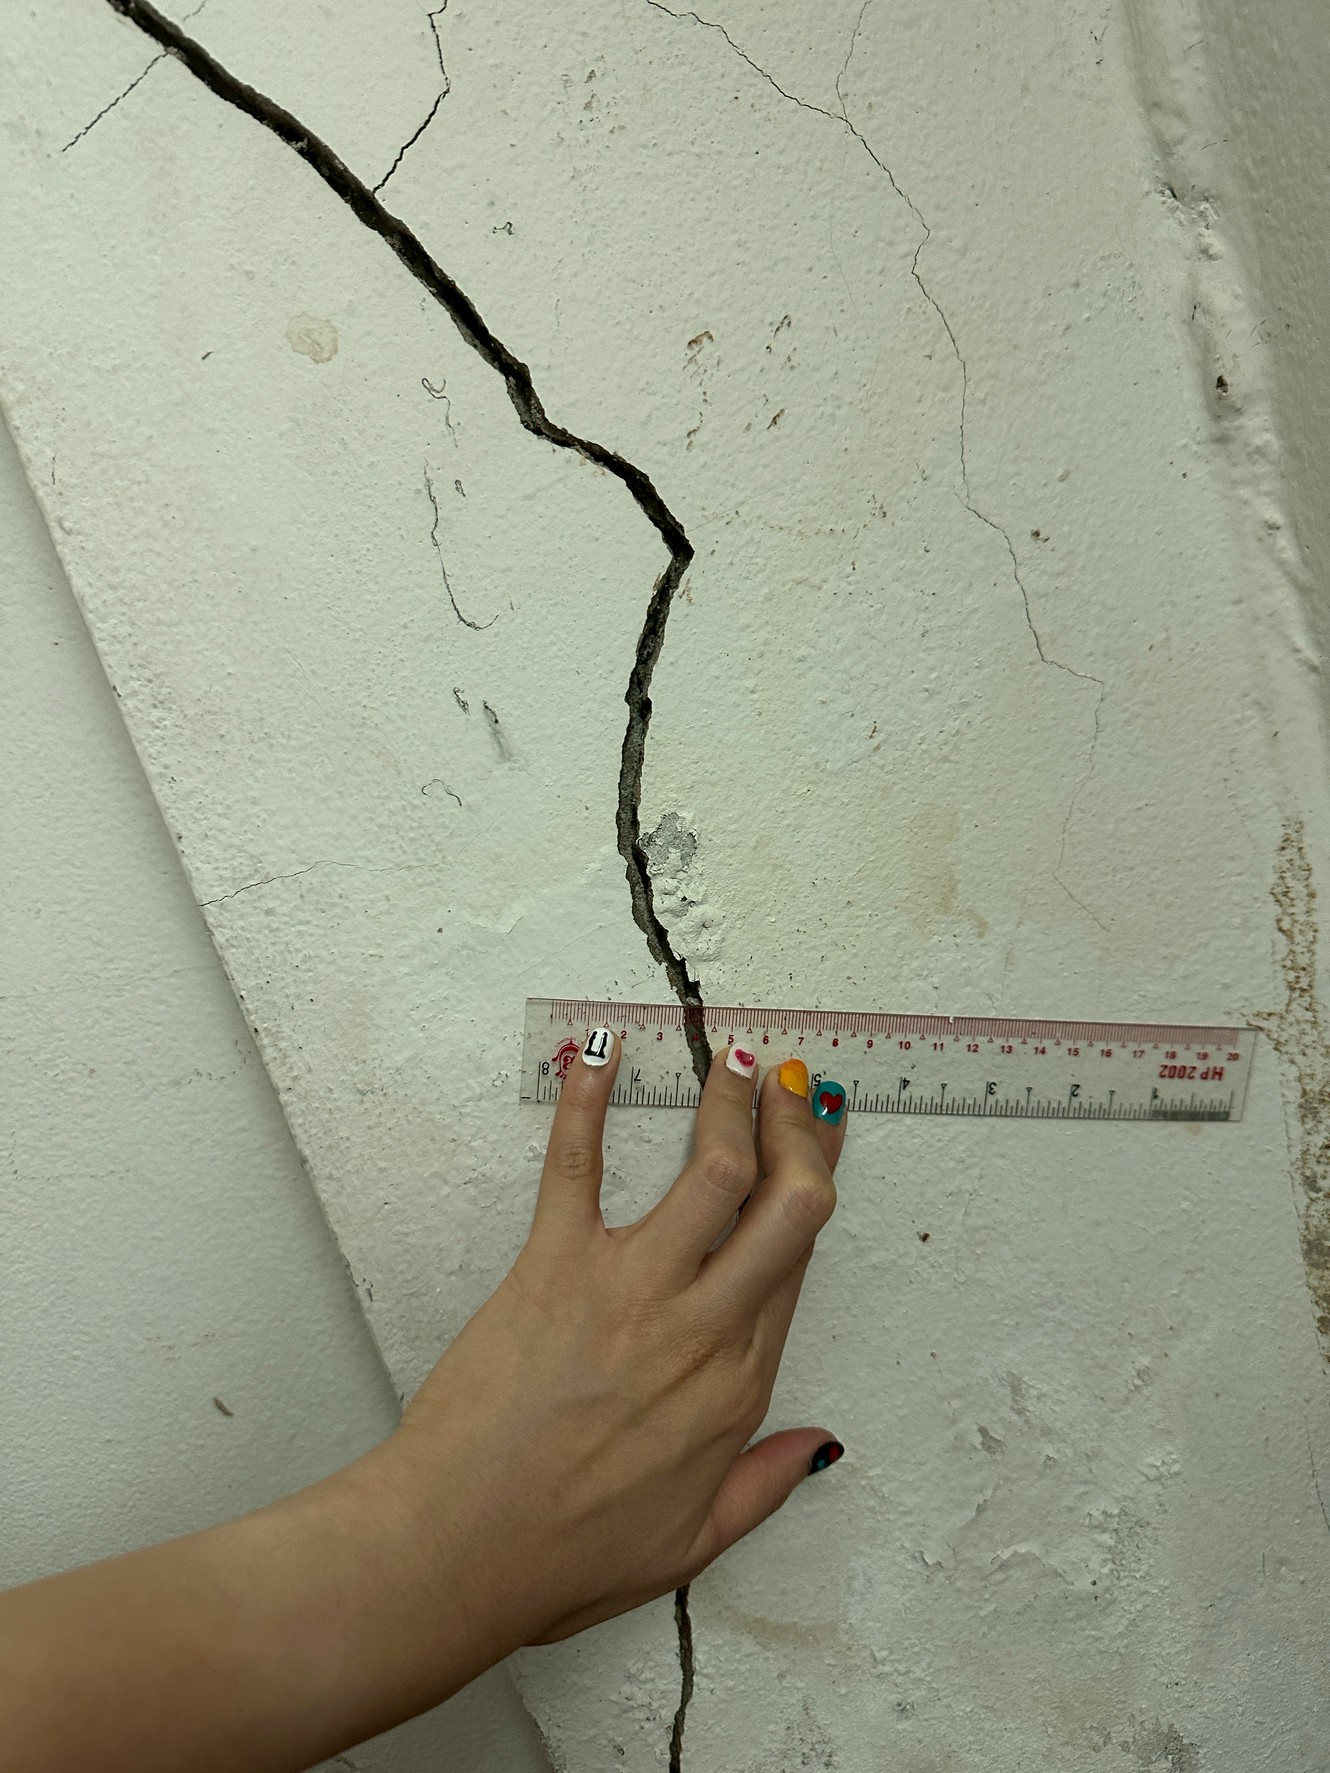High: (96, 1, 872, 1005)
